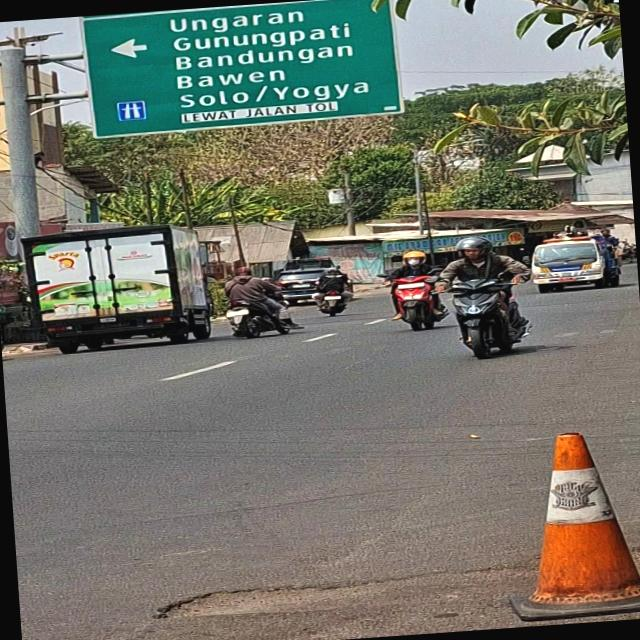WithHelmet: (432, 232, 536, 340), (376, 248, 448, 323)
